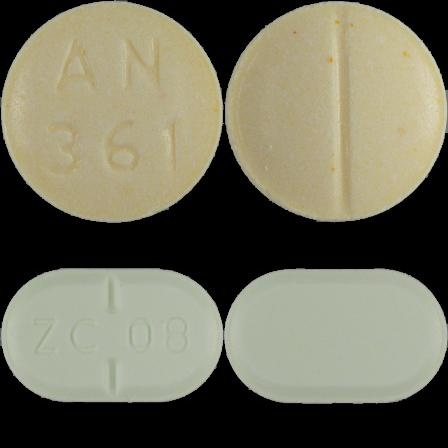49349-358: (0, 0, 224, 224)
